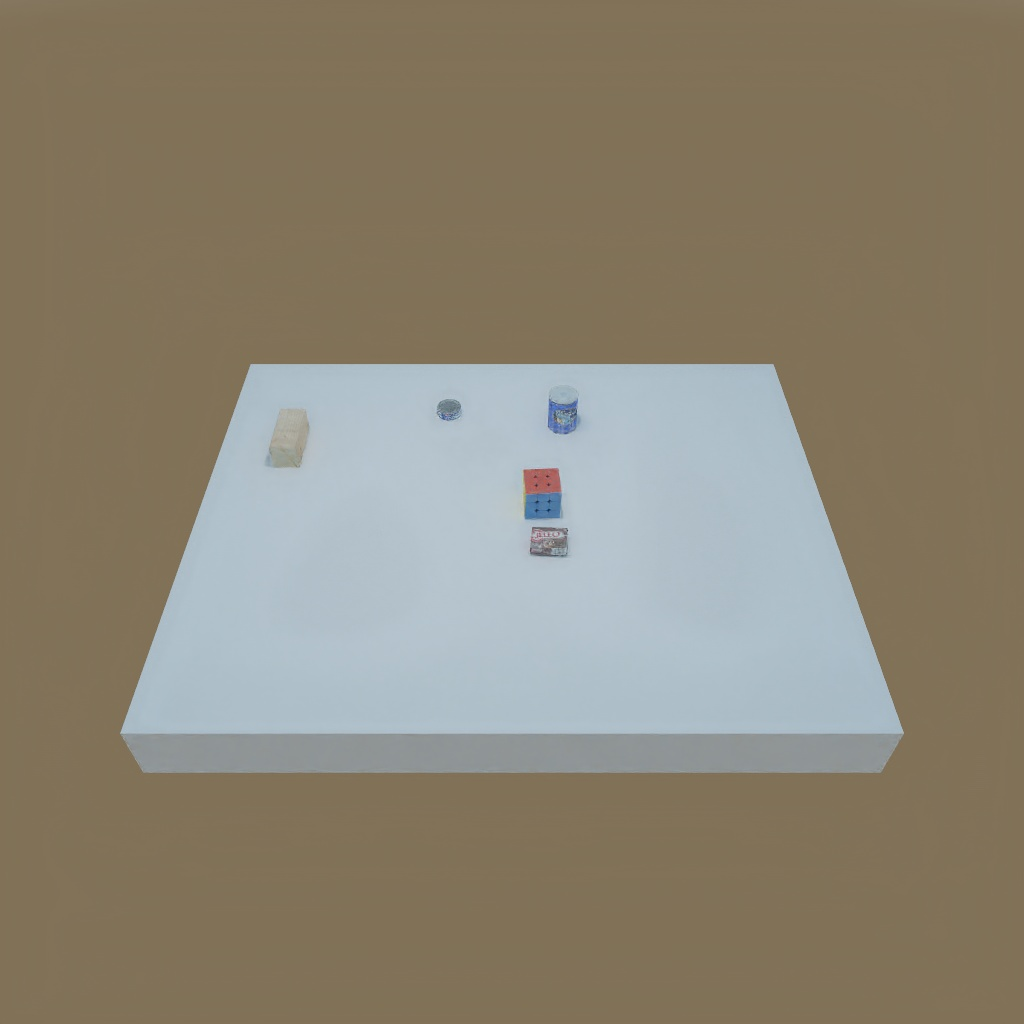master_chef_can: (545, 383, 582, 437)
pudding_box: (522, 524, 572, 559)
rubiks_cube: (516, 463, 565, 523)
wood_block: (267, 407, 314, 472)
